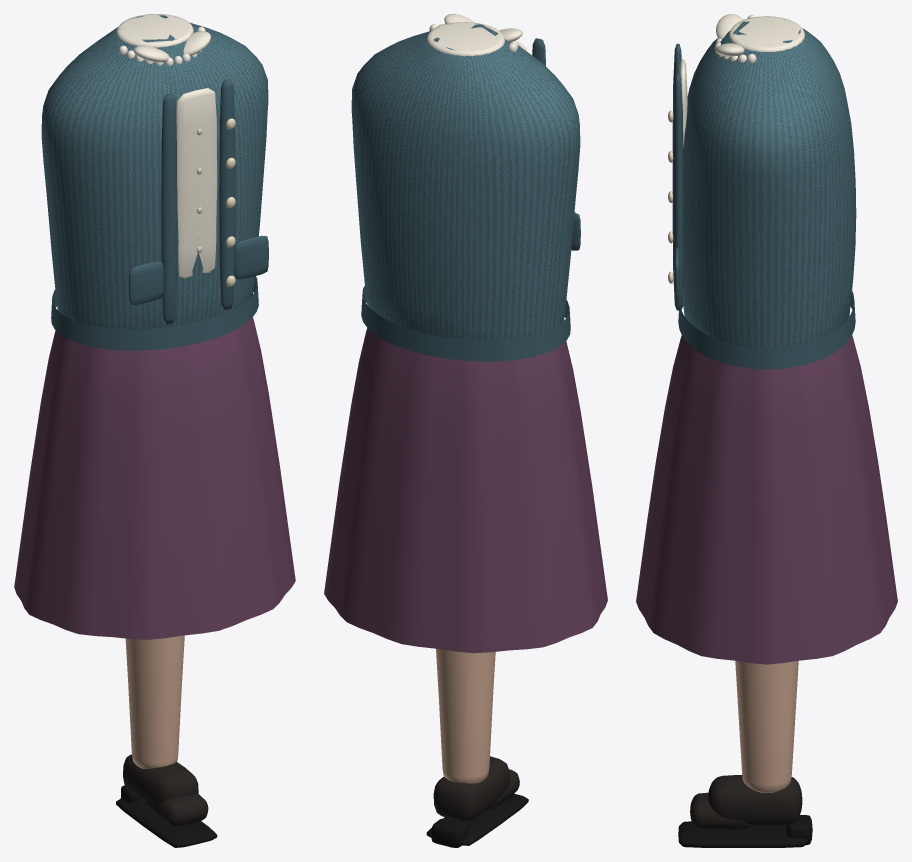
File: hale.glb
The picture shows the model from 3 angles, left to right: view 1: azimuth 30°, elevation 25°; view 2: azimuth 150°, elevation 25°; view 3: azimuth 270°, elevation 25°; orthographic projection. The views are drawn at different scales.
Visible parts, largest first — view 1: torso, leg; view 2: torso, leg; view 3: torso, leg.
Part boxes in pixels (x1,y1,x2,y2): torso: (14,14,295,639); leg: (116,635,217,847); torso: (324,14,607,653); leg: (426,648,528,847); torso: (636,14,897,664); leg: (678,661,812,847).
Size of the model in its own units: 0.5021 by 1.51 by 0.4419.
Materials: 2 (2 with a texture image).
